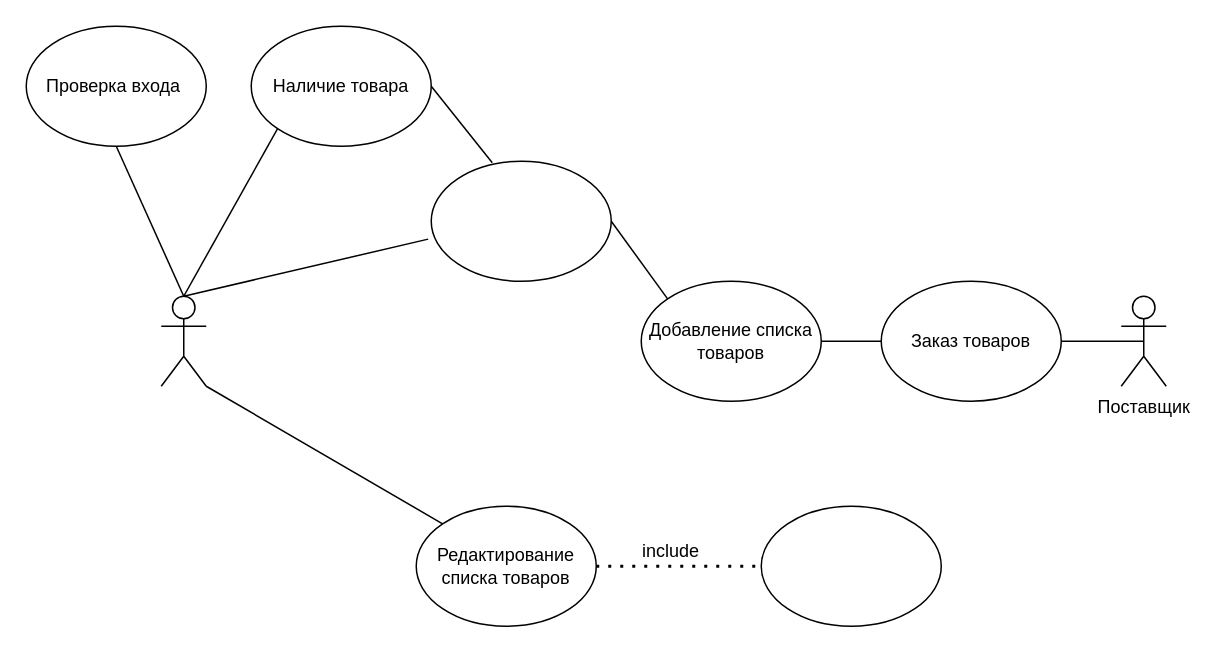
Image size: 1217x653. Some labels were removed from this diagram. Here are the shapes that lost their labels. From the top down, the centre of each, then its label:
At (x=520, y=220): "накладная".
At (x=183, y=340): "Сотрудник".
At (x=850, y=565): "Удаление списка товаров".
